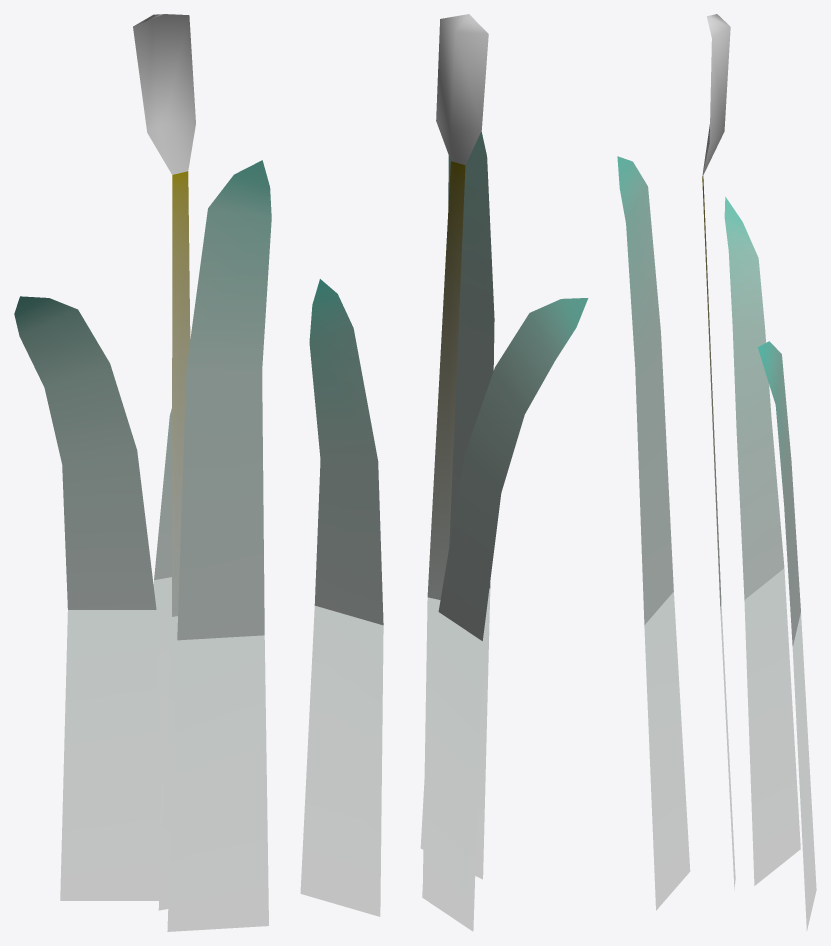
File: prop-forest-water_cattail_01.glb
3 renders of one model, left to right at view 1: azimuth 30°, elevation 25°; view 2: azimuth 150°, elevation 25°; view 3: azimuth 270°, elevation 25°, orthographic. The views are drawn at different scales.
Visible parts, largest first — view 1: prop-forest-water_cattail_01; view 2: prop-forest-water_cattail_01; view 3: prop-forest-water_cattail_01.
Boxes of the visible parts, bbox=[...] form: prop-forest-water_cattail_01: bbox=[14, 14, 271, 931]; prop-forest-water_cattail_01: bbox=[300, 14, 588, 931]; prop-forest-water_cattail_01: bbox=[617, 14, 816, 930].
Size of the model in its own units: 2.34 by 7.63 by 1.6.
